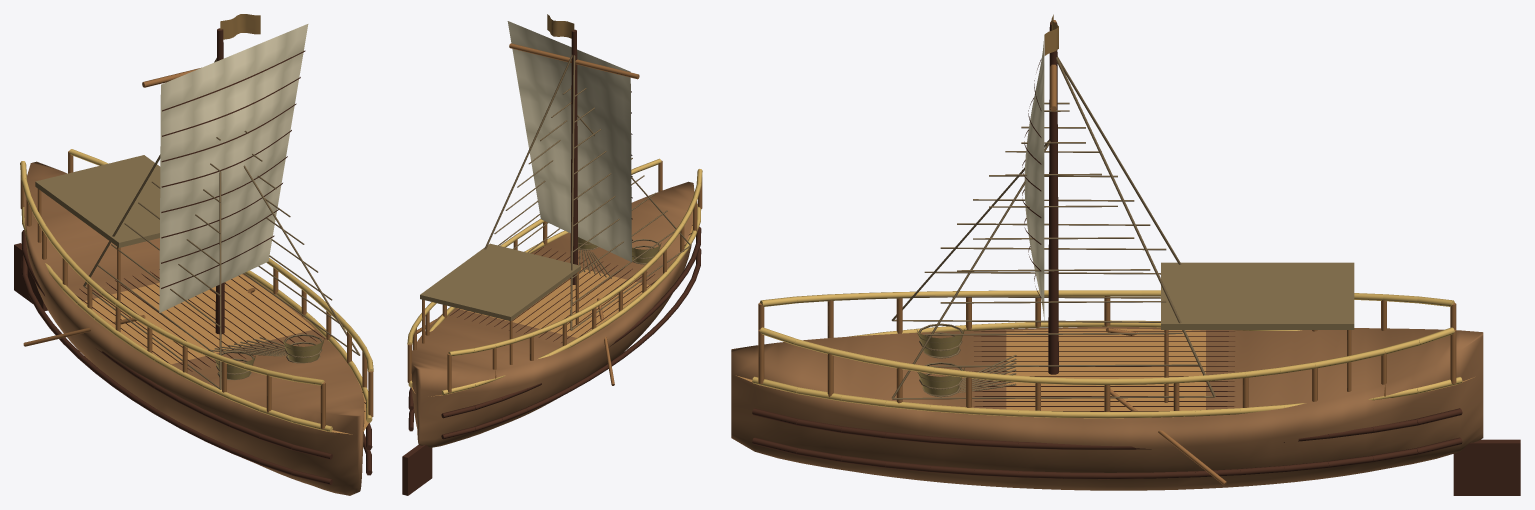
Rendered from fisherman-lod0.glb.
3 renders of one model, left to right at view 1: azimuth 30°, elevation 25°; view 2: azimuth 150°, elevation 25°; view 3: azimuth 270°, elevation 25°, orthographic. The views are drawn at different scales.
Visible parts, largest first — view 1: hull, sail_01, fittings_trim, fittings_wood, deck, fishing_canopy_body, fittings_deck, flag_01, rudder_pivot, mast_timber_01; view 2: hull, sail_01, fittings_trim, fishing_canopy_body, fittings_wood, deck, mast_timber_01, fittings_deck, rudder_pivot, mast_01, flag_01; view 3: hull, fittings_trim, fittings_wood, fishing_canopy_body, deck, sail_01, rudder_pivot, fittings_deck, mast_timber_01.
Boxes of the visible parts, <box> form: hull: <box>24,161,364,495</box>; sail_01: <box>159,24,308,312</box>; fittings_trim: <box>20,58,373,432</box>; fittings_wood: <box>20,150,373,484</box>; deck: <box>82,274,368,434</box>; fishing_canopy_body: <box>35,155,160,247</box>; fittings_deck: <box>75,269,365,411</box>; flag_01: <box>220,14,260,39</box>; rudder_pivot: <box>14,243,47,311</box>; mast_timber_01: <box>215,28,224,334</box>; hull: <box>411,181,694,447</box>; sail_01: <box>507,21,632,262</box>; fittings_trim: <box>407,55,702,395</box>; fishing_canopy_body: <box>420,243,580,320</box>; fittings_wood: <box>407,160,702,439</box>; deck: <box>411,223,692,396</box>; mast_timber_01: <box>570,29,577,284</box>; fittings_deck: <box>450,225,692,342</box>; rudder_pivot: <box>402,445,432,495</box>; mast_01: <box>509,43,639,79</box>; flag_01: <box>547,14,574,38</box>; hull: <box>731,326,1483,490</box>; fittings_trim: <box>752,56,1462,418</box>; fittings_wood: <box>752,296,1462,485</box>; fishing_canopy_body: <box>1161,262,1354,329</box>; deck: <box>736,328,1474,410</box>; sail_01: <box>1022,35,1044,321</box>; rudder_pivot: <box>1453,439,1520,495</box>; fittings_deck: <box>974,331,1234,411</box>; mast_timber_01: <box>1048,22,1058,374</box>.
Size of the model in its own units: 6.07 by 9.86 by 14.7.
